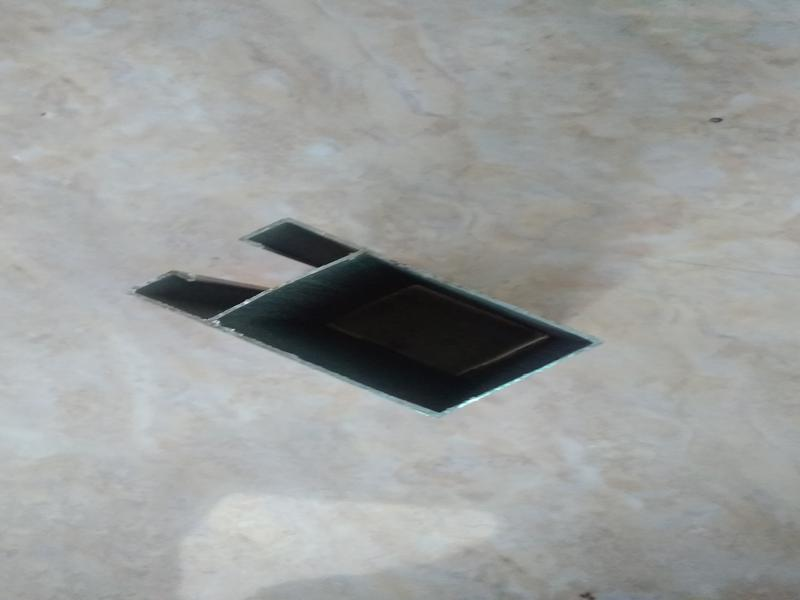Aluminium_1: (113, 166, 626, 454)
